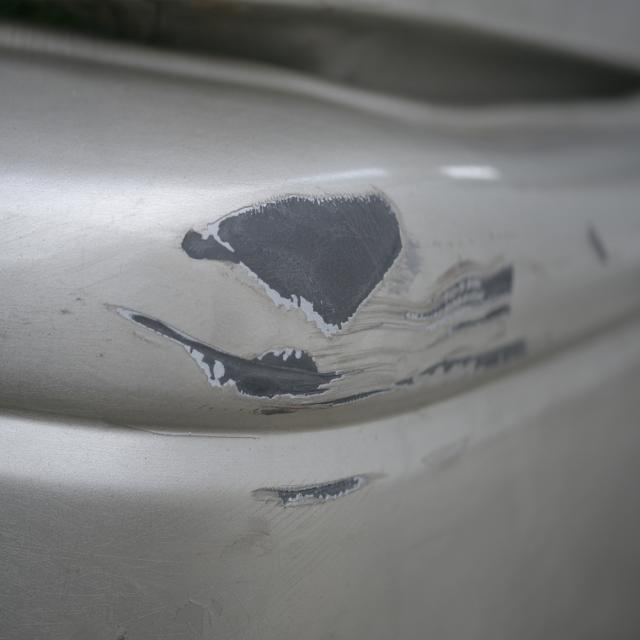scratch: (99, 182, 535, 521)
